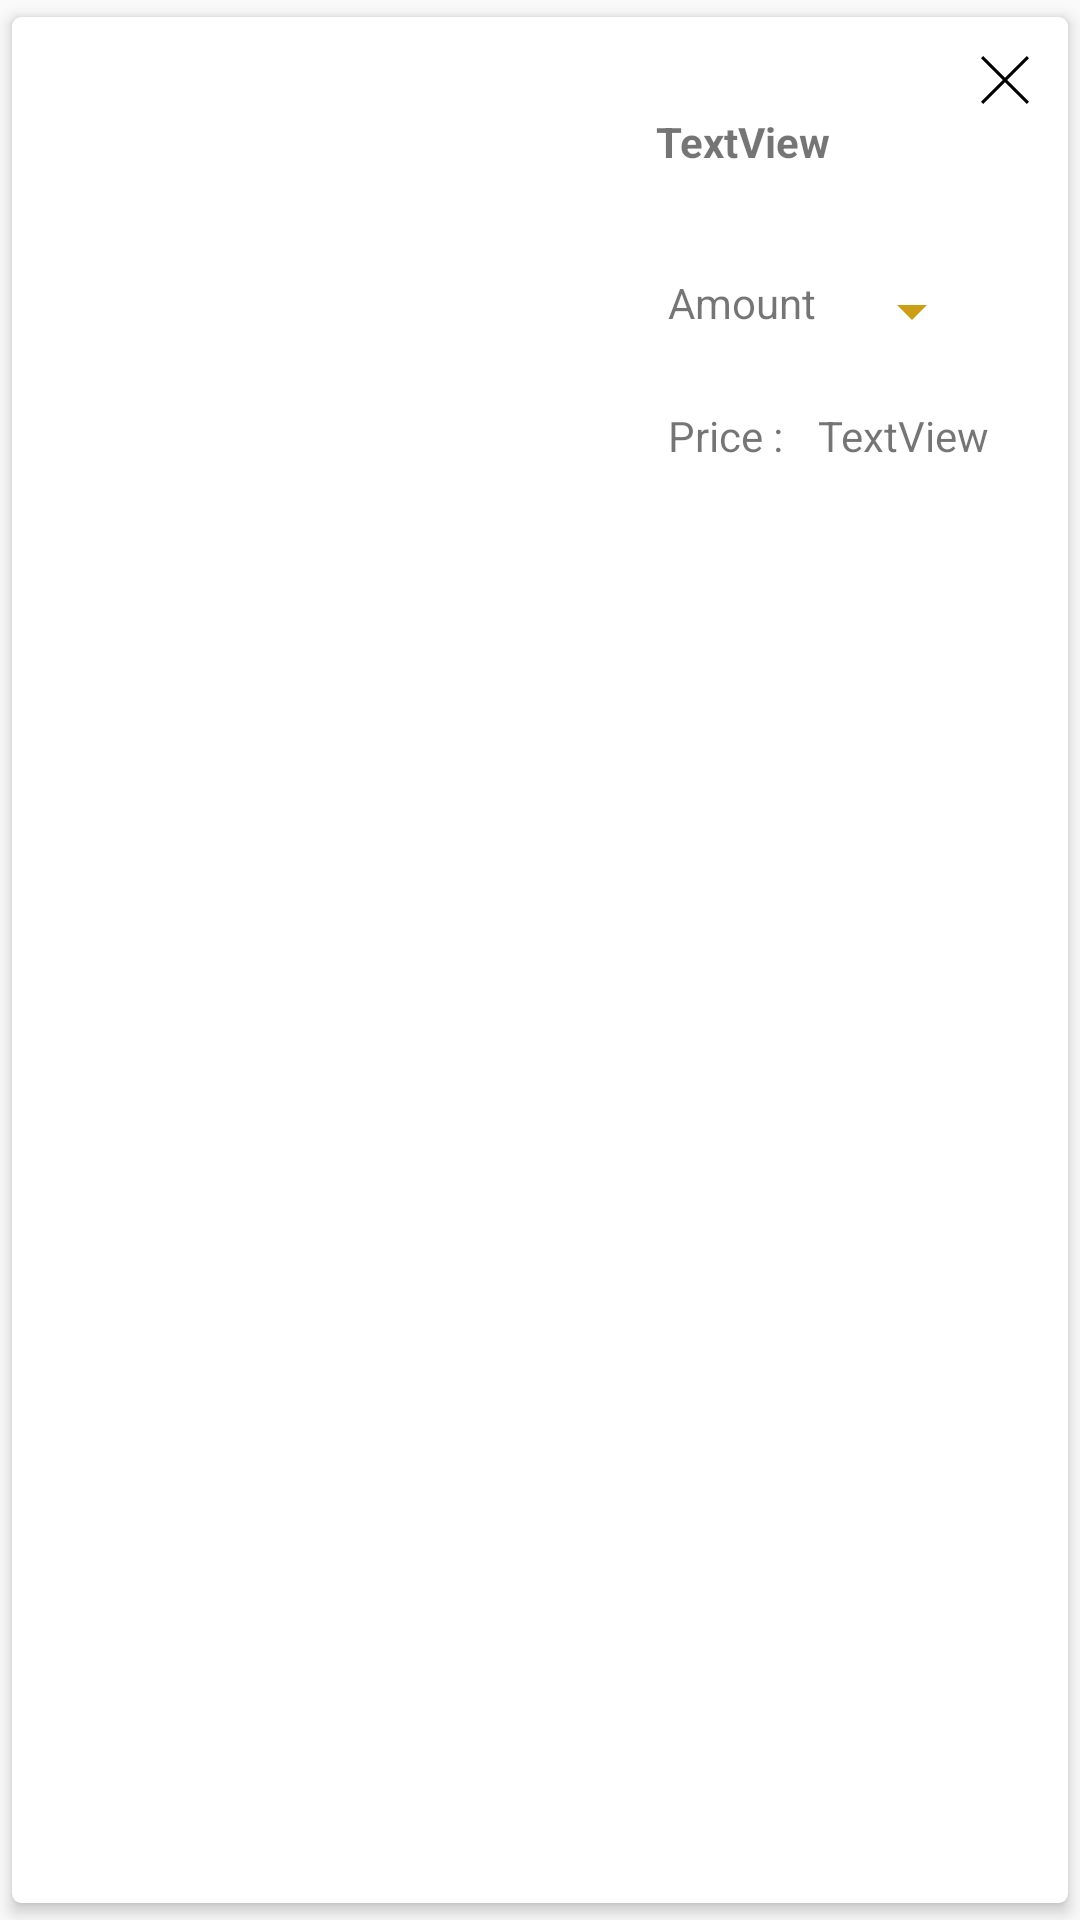

Named icons in this screenshot (1080*1920) and their centers, [x,y]:
cancel: [1005,80]
